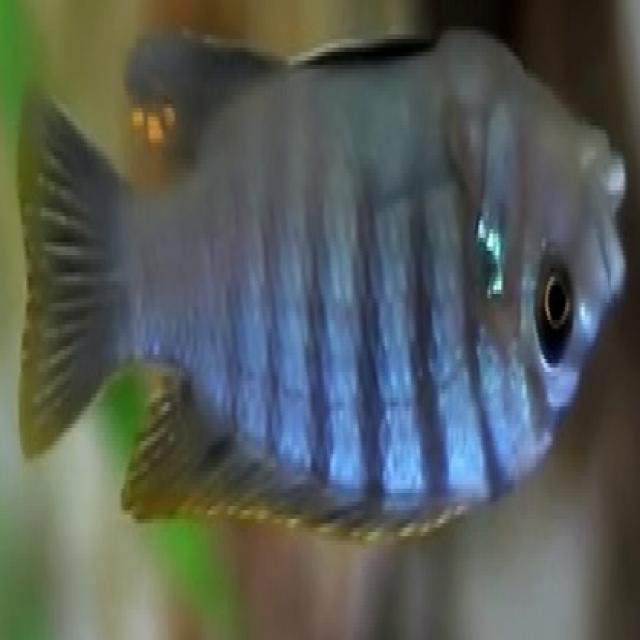fish: (0, 1, 639, 636)
